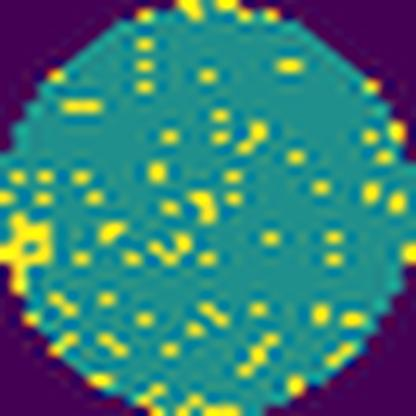Edge-Loc: (1, 213, 55, 293)
